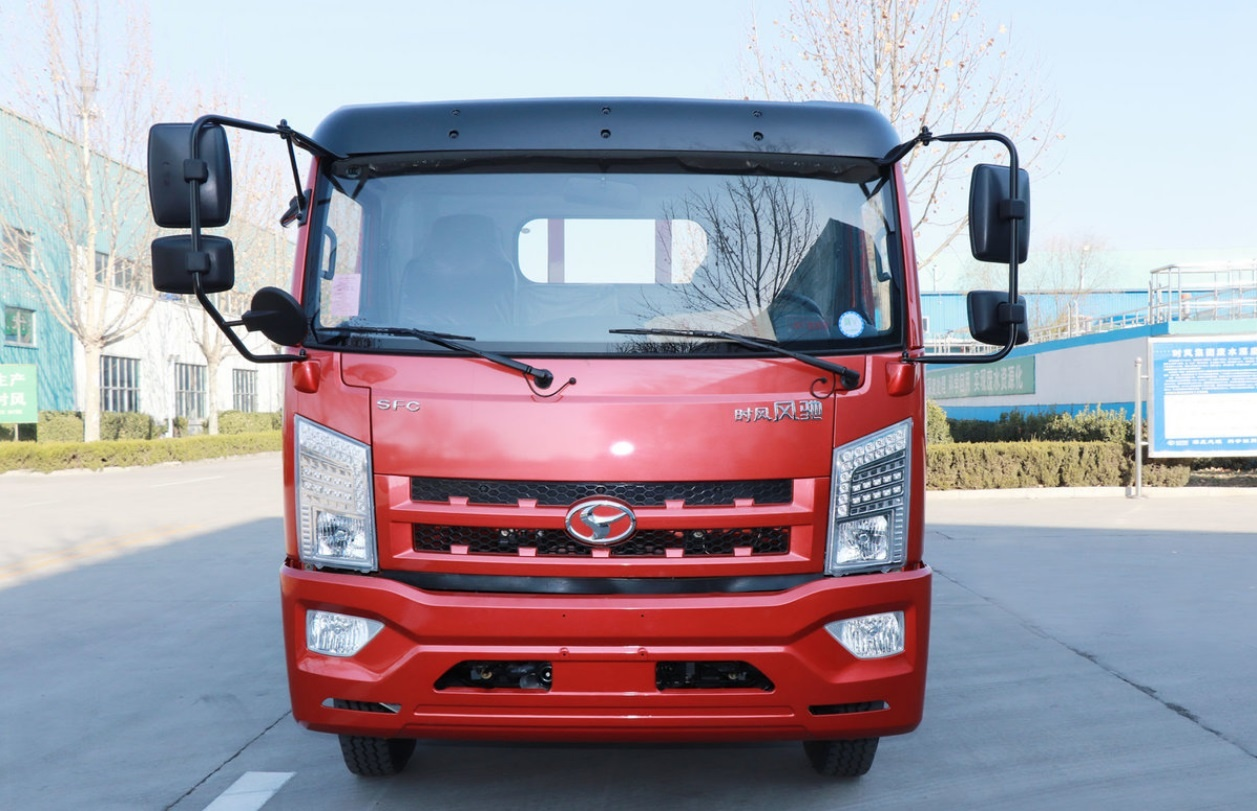truck: (146, 80, 1046, 782)
